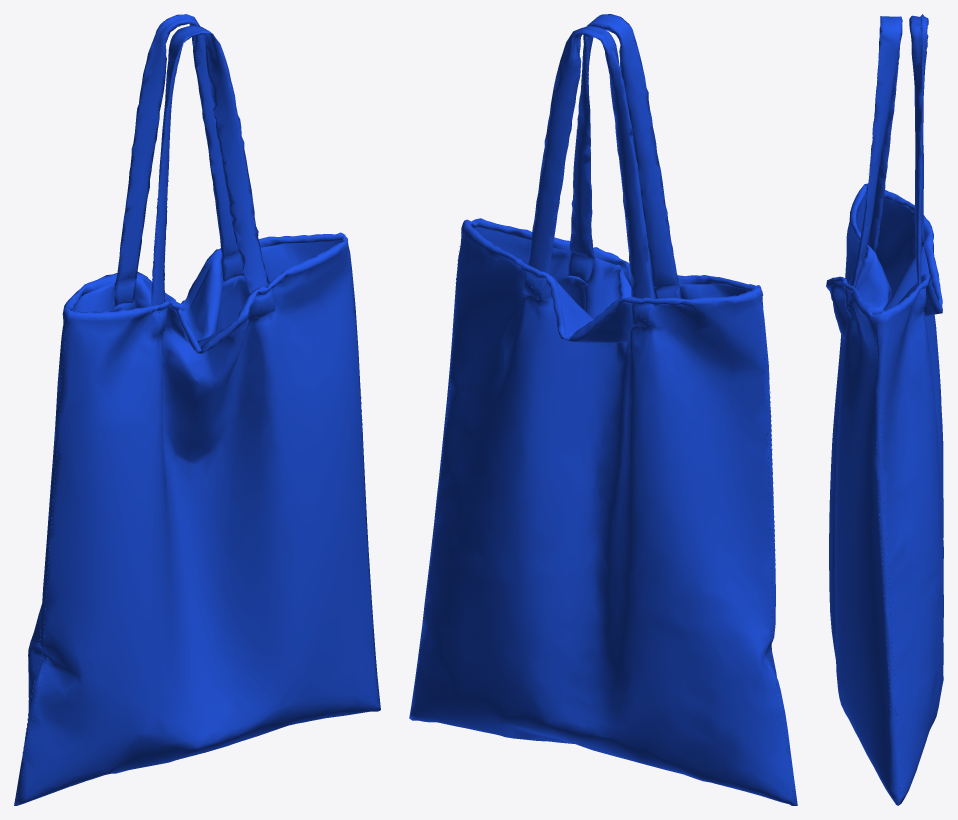
The model's file is Tote.fbx.
3 views of the same model, side by side, from view 1: azimuth 30°, elevation 25°; view 2: azimuth 150°, elevation 25°; view 3: azimuth 270°, elevation 25° (orthographic). The views are drawn at different scales.
Parts seen in each view (by area): view 1: totebag tahan panas; view 2: totebag tahan panas; view 3: totebag tahan panas.
Boxes of the visible parts, bbox=[...] form: totebag tahan panas: bbox=[14, 14, 380, 805]; totebag tahan panas: bbox=[409, 14, 797, 805]; totebag tahan panas: bbox=[826, 14, 943, 805].
Bounding box in the file's own units: 3424 × 6402 × 978.
